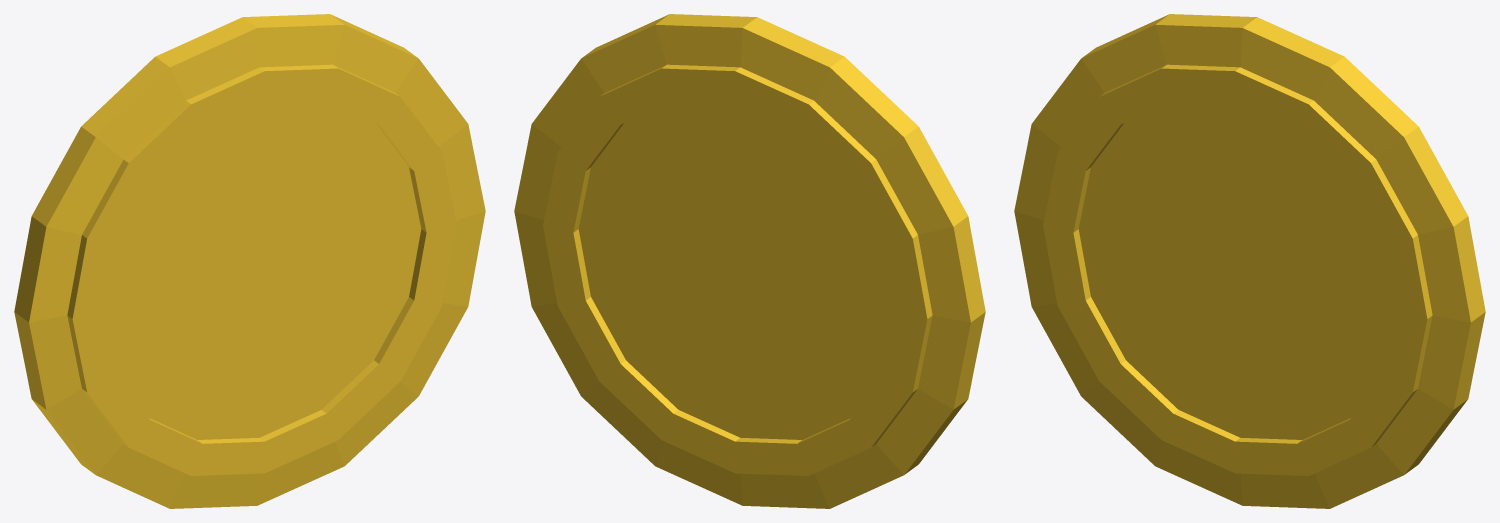
File: coin.glb
3 views of the same model, side by side, from view 1: azimuth 30°, elevation 25°; view 2: azimuth 150°, elevation 25°; view 3: azimuth 330°, elevation 25° (orthographic).
Parts seen in each view (by area): view 1: Circle; view 2: Circle; view 3: Circle.
Part boxes in pixels (x1=…): Circle: x1=14, y1=14, x2=485, y2=508; Circle: x1=514, y1=14, x2=985, y2=508; Circle: x1=1014, y1=14, x2=1485, y2=508.
Bounding box in the file's own units: 1.33 × 1.33 × 0.1492.
1 material, 1 textured.
